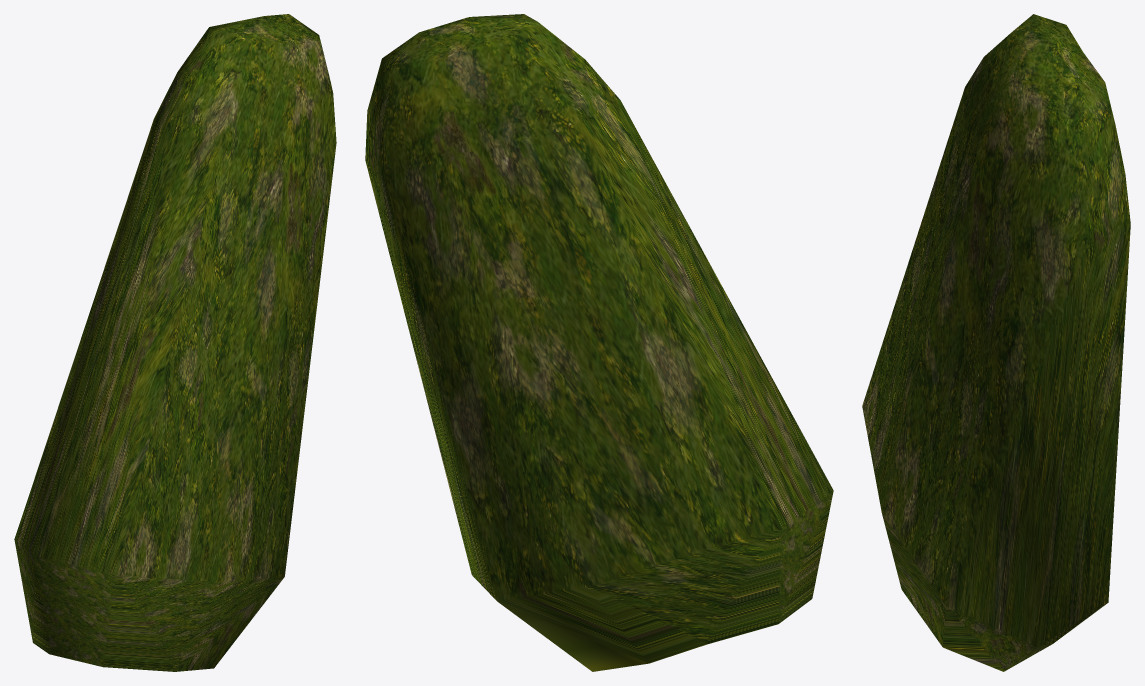
File: OVERHILL_A_01_LINE326.fbx
3 renders of one model, left to right at view 1: azimuth 30°, elevation 25°; view 2: azimuth 150°, elevation 25°; view 3: azimuth 270°, elevation 25°, orthographic. The views are drawn at different scales.
Parts seen in each view (by area): view 1: OVERHILL_A_01_LINE326; view 2: OVERHILL_A_01_LINE326; view 3: OVERHILL_A_01_LINE326.
Boxes of the visible parts, x1=… form: OVERHILL_A_01_LINE326: x1=14, y1=14, x2=336, y2=671; OVERHILL_A_01_LINE326: x1=365, y1=14, x2=833, y2=671; OVERHILL_A_01_LINE326: x1=862, y1=14, x2=1130, y2=671.
Size of the model in its own units: 35960 by 55972 by 20303.
1 material, 1 textured.
